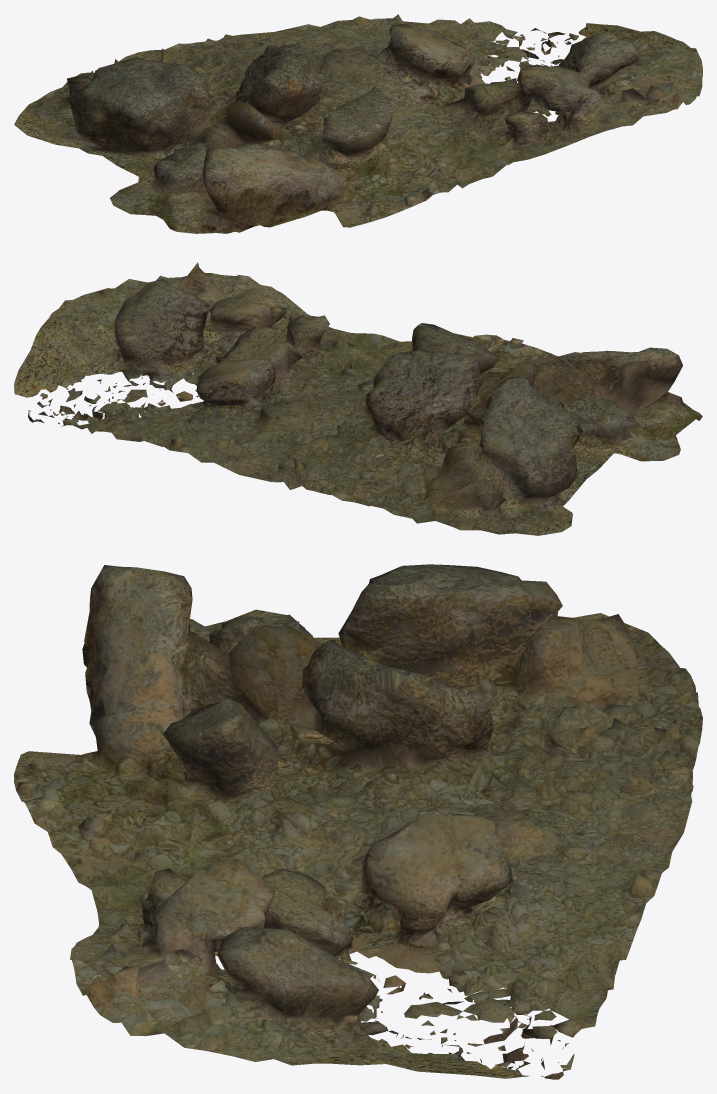
Rendered from scan_rock_outcrop.glb.
The picture shows the model from 3 angles, top to bottom: view 1: azimuth 30°, elevation 25°; view 2: azimuth 150°, elevation 25°; view 3: azimuth 270°, elevation 25°; orthographic projection. The views are drawn at different scales.
Parts seen in each view (by area): view 1: scan_rock_outcrop; view 2: scan_rock_outcrop; view 3: scan_rock_outcrop.
Boxes of the visible parts, x1,y1,x2,y2 form: scan_rock_outcrop: (14, 14, 702, 233); scan_rock_outcrop: (14, 262, 702, 535); scan_rock_outcrop: (14, 564, 702, 1079).
Bounding box in the file's own units: 8.98 × 1.51 × 5.62.
1 material, 1 textured.
